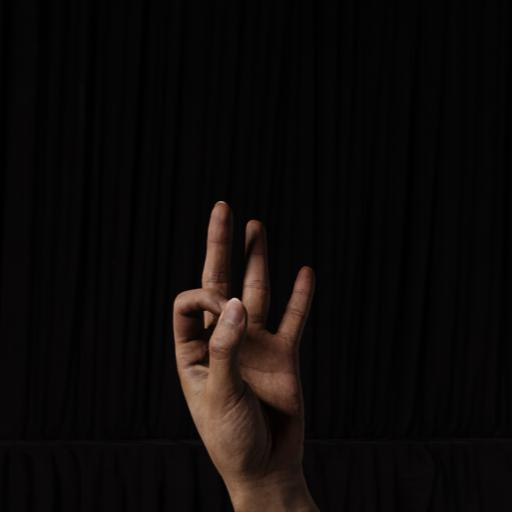F: (172, 192, 320, 484)
